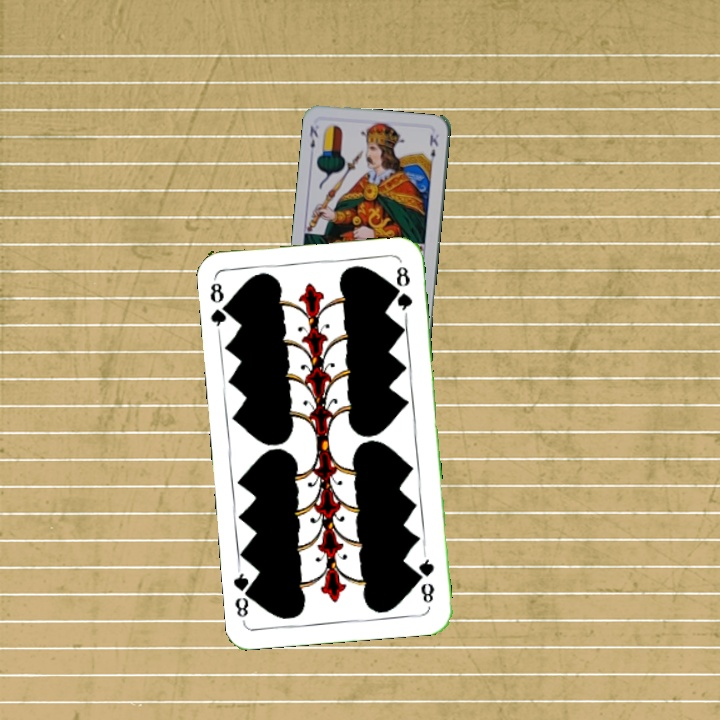EK: (305, 122, 321, 158)
G8: (206, 276, 234, 335), (414, 550, 437, 606)
